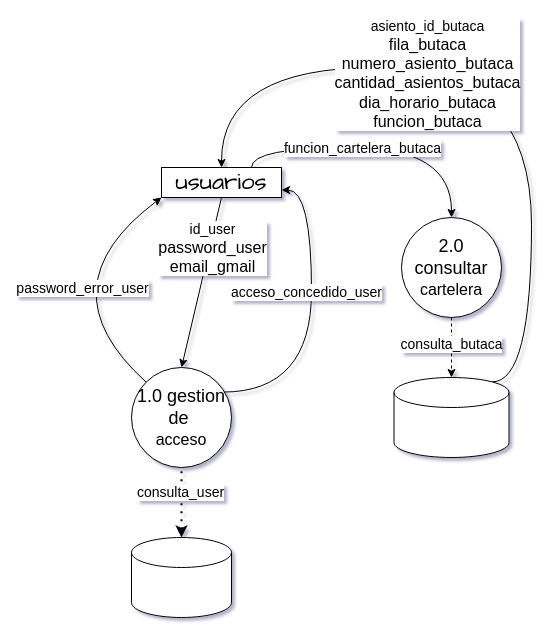
Image size: 556x641. Some labels were removed from this diagram. Each missing label, with the centre of its shape:
"base_butaca" belongs at [451,417].
"base_user" belongs at [181,577].
